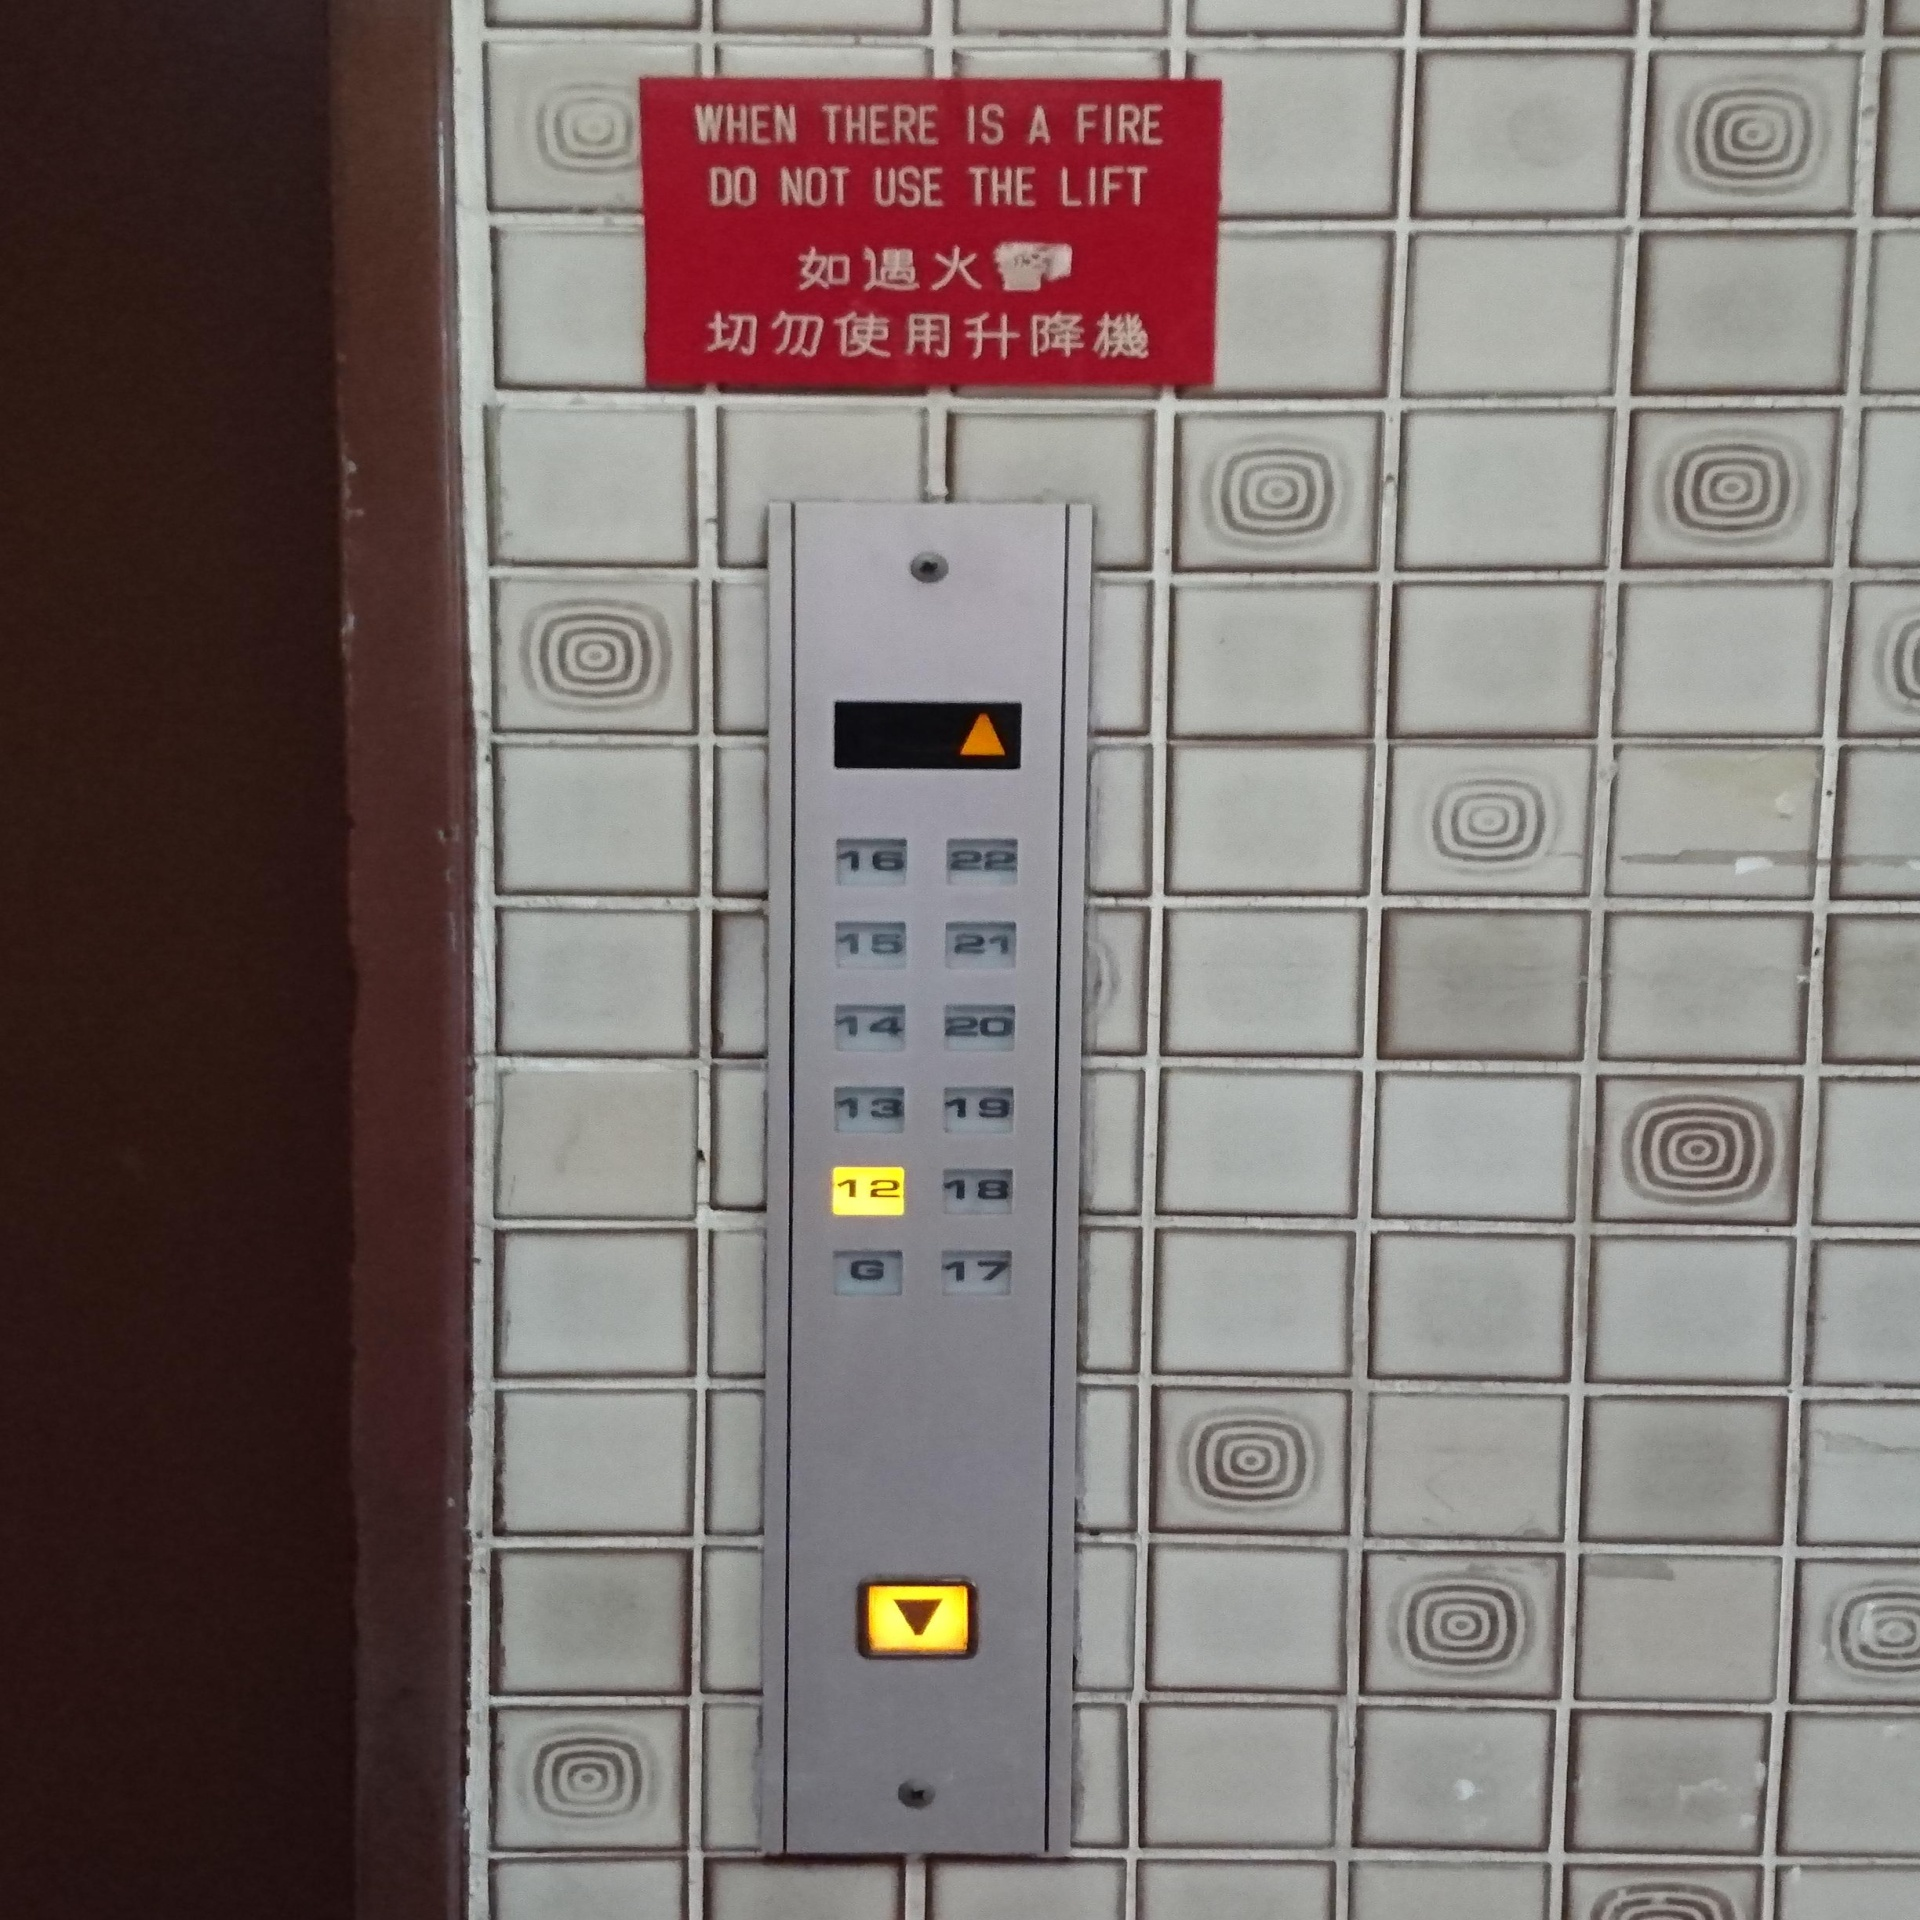12: (828, 1162, 907, 1220)
13: (832, 1083, 907, 1136)
14: (832, 1000, 907, 1055)
15: (832, 918, 909, 972)
16: (832, 833, 909, 890)
17: (937, 1248, 1015, 1298)
18: (941, 1164, 1016, 1218)
19: (941, 1083, 1016, 1136)
20: (941, 1000, 1018, 1053)
21: (941, 920, 1020, 971)
22: (944, 835, 1020, 888)
G: (830, 1248, 905, 1298)
down: (856, 1574, 983, 1663)
led: (828, 698, 1022, 768)
